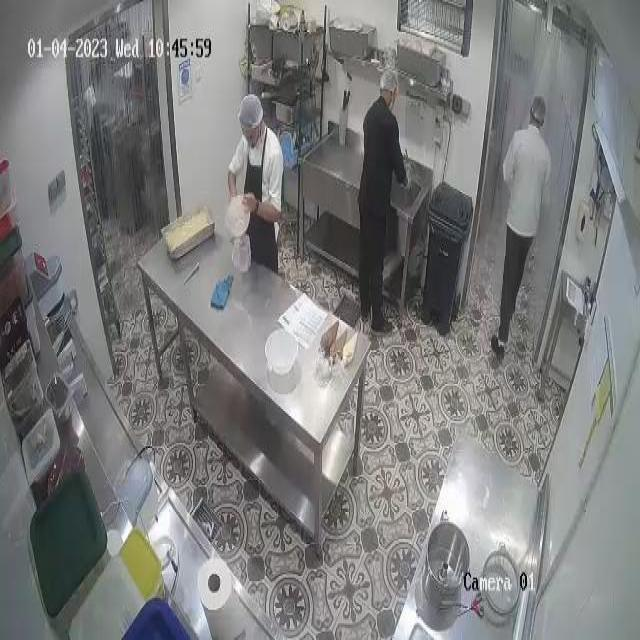hairnet: (240, 93, 262, 126), (379, 68, 399, 94), (530, 97, 546, 124)
